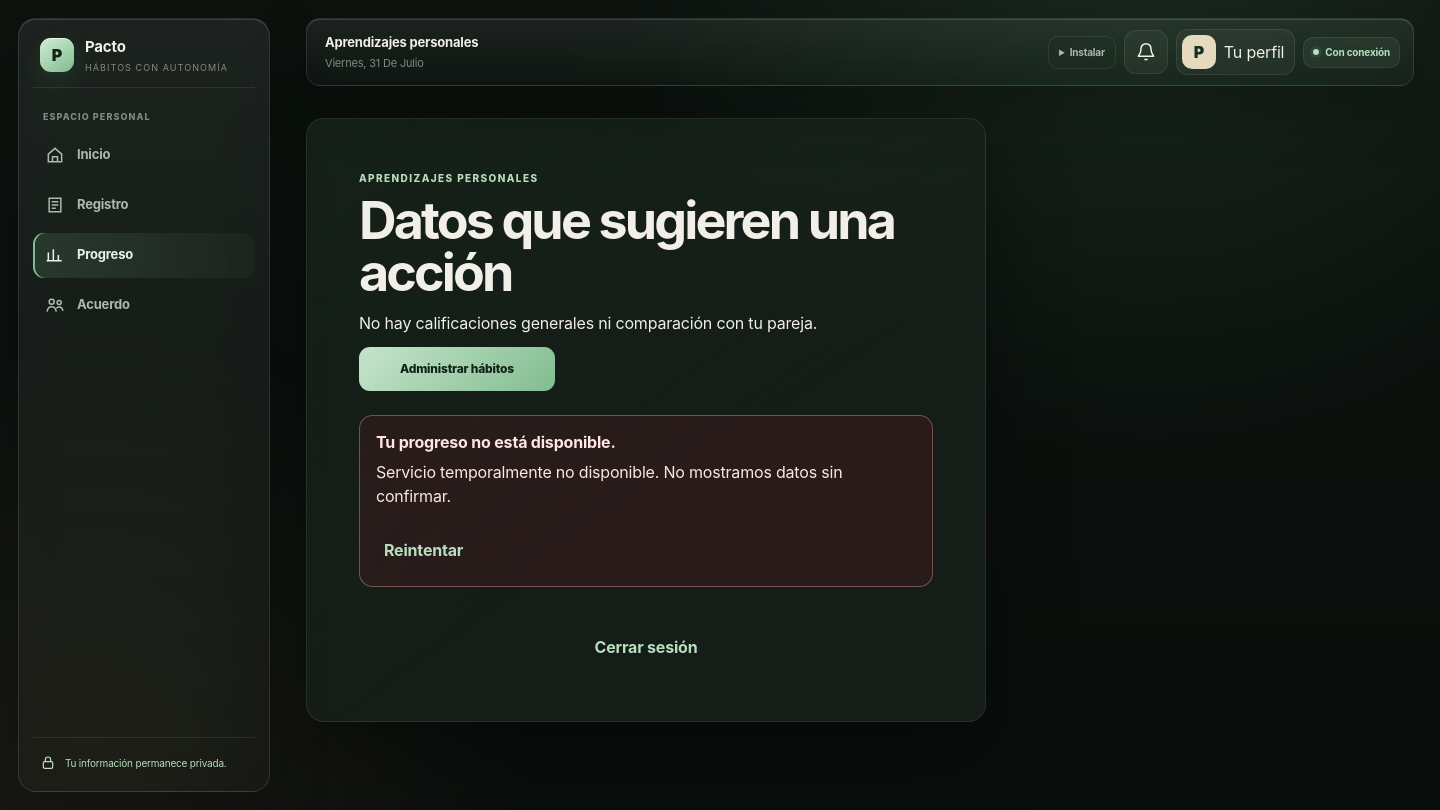
private route integration › retries a routed progress request without inventing data
This screenshot has width=1440, height=810.
expect the message shows "No mostramos datos sin confirmar": met, box left=376, top=462, right=842, bottom=506
Click the button "Reintentar": (424, 550) left=376, top=528, right=471, bottom=572
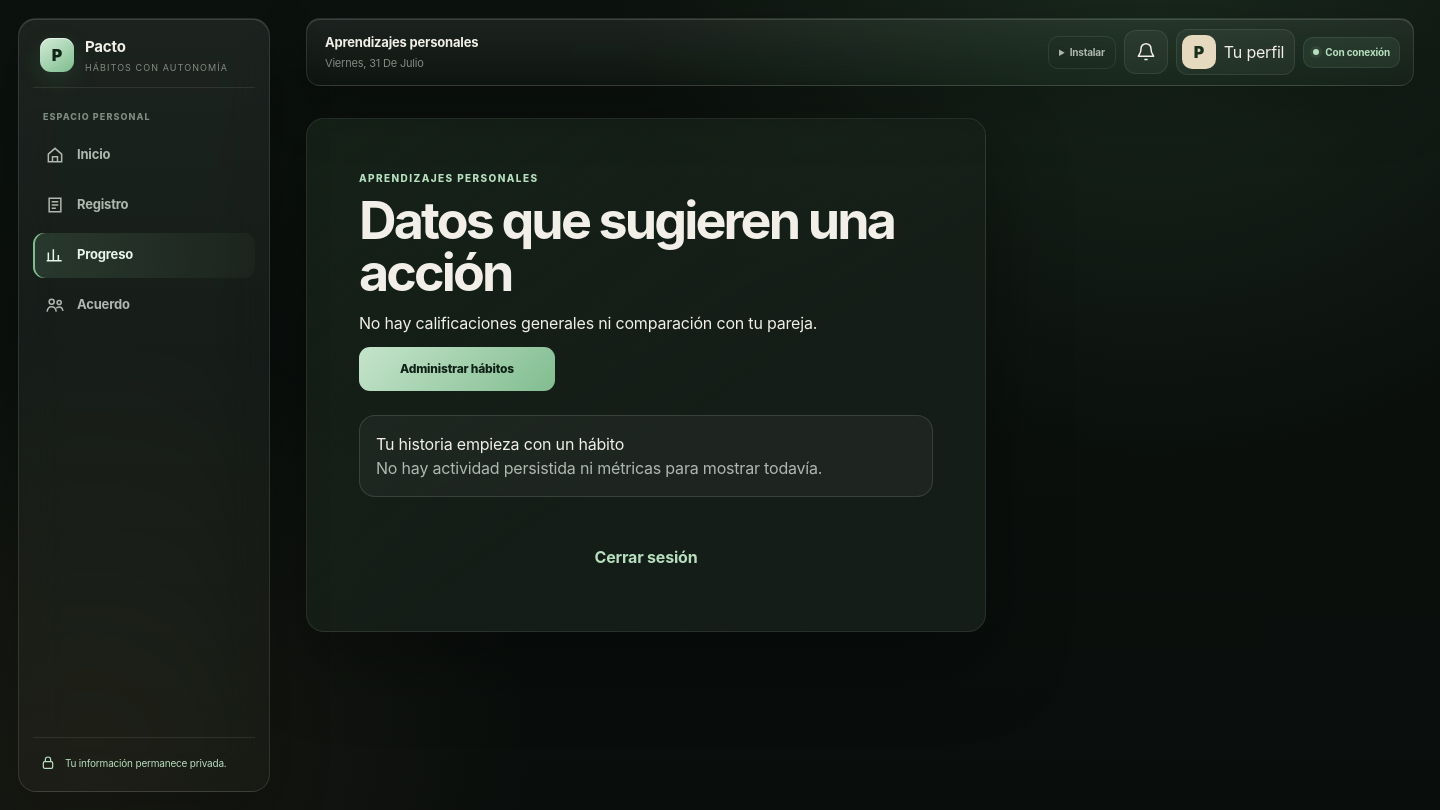
expect the text "No hay actividad persistida ni métricas para mostrar todavía." is shown: met, box left=376, top=458, right=822, bottom=478
